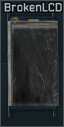Broken LCD: (0, 0, 64, 127)
